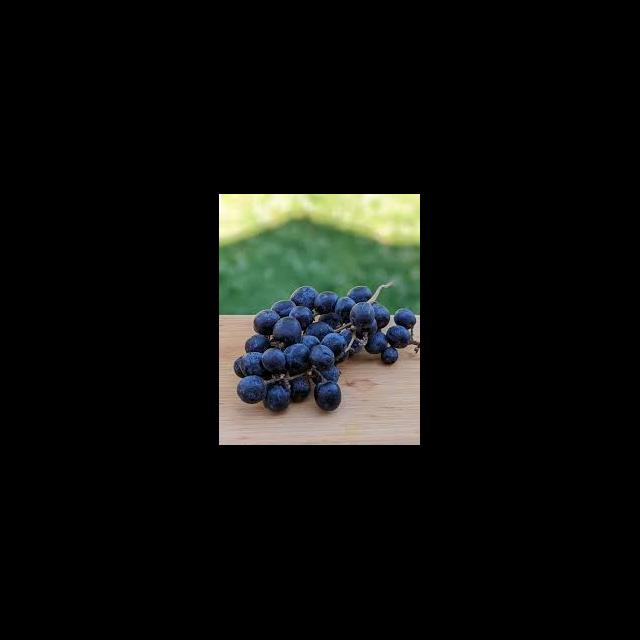grape: (233, 282, 420, 412)
